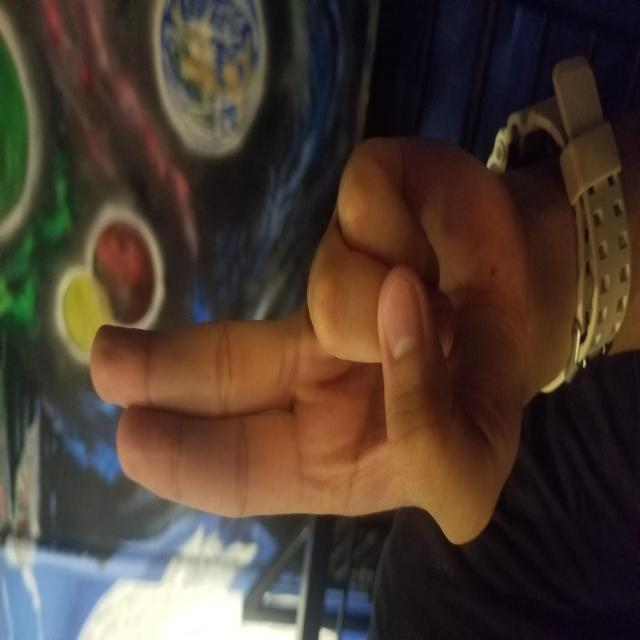U: (90, 92, 506, 523)
